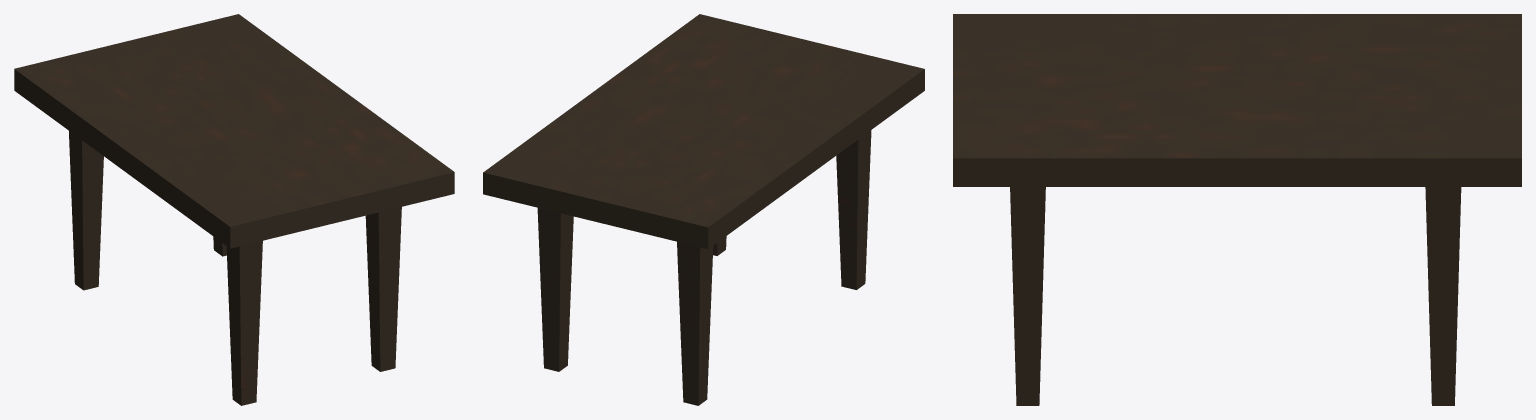
The model's file is woodenDesk.fbx.
3 renders of one model, left to right at view 1: azimuth 30°, elevation 25°; view 2: azimuth 150°, elevation 25°; view 3: azimuth 270°, elevation 25°, orthographic. The views are drawn at different scales.
Visible parts, largest first — view 1: WoodTable; view 2: WoodTable; view 3: WoodTable.
Boxes of the visible parts, x1,y1,x2,y2 form: WoodTable: (14,14,454,405); WoodTable: (483,14,924,405); WoodTable: (953,14,1521,405).
Size of the model in its own units: 646 by 565 by 1077.
Materials: 1 (1 with a texture image).
